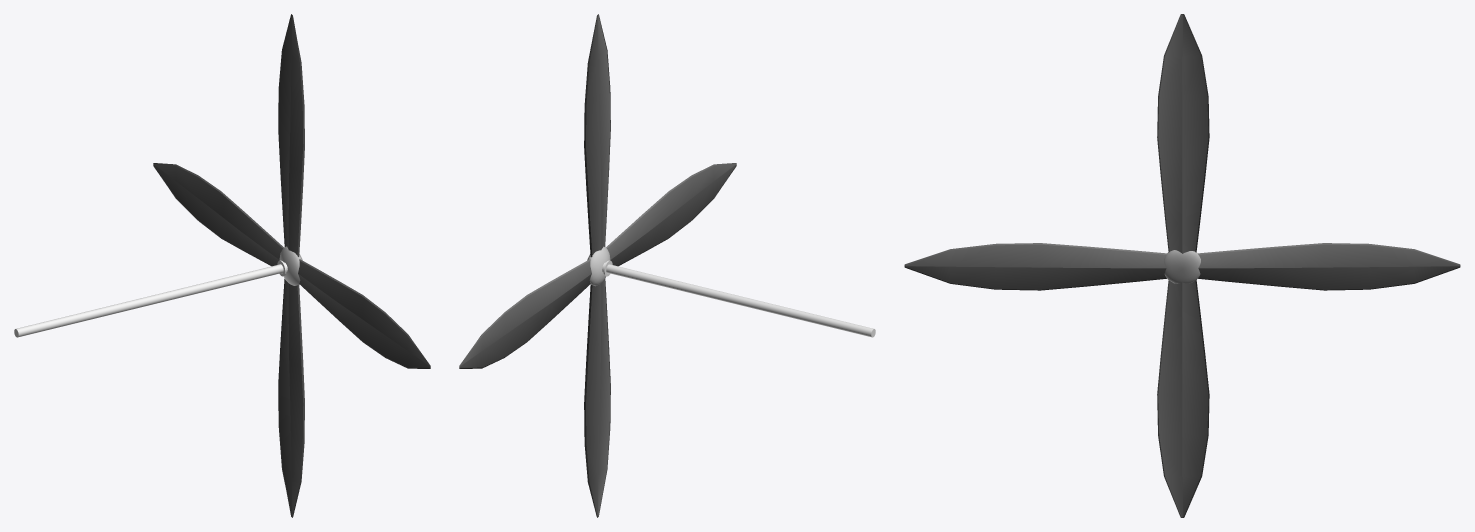
The model's file is Fan.fbx.
3 renders of one model, left to right at view 1: azimuth 30°, elevation 25°; view 2: azimuth 150°, elevation 25°; view 3: azimuth 270°, elevation 25°, orthographic.
Parts seen in each view (by area): view 1: Fan, FanStand; view 2: Fan, FanStand; view 3: Fan.
Part boxes in pixels (x1,y1,x2,y2): Fan: (153,14,430,517); FanStand: (14,260,286,337); Fan: (459,14,736,517); FanStand: (603,260,875,337); Fan: (904,14,1460,517).
Size of the model in its own units: 7.26 by 12.35 by 12.35.
Materials: 1 (1 with a texture image).
